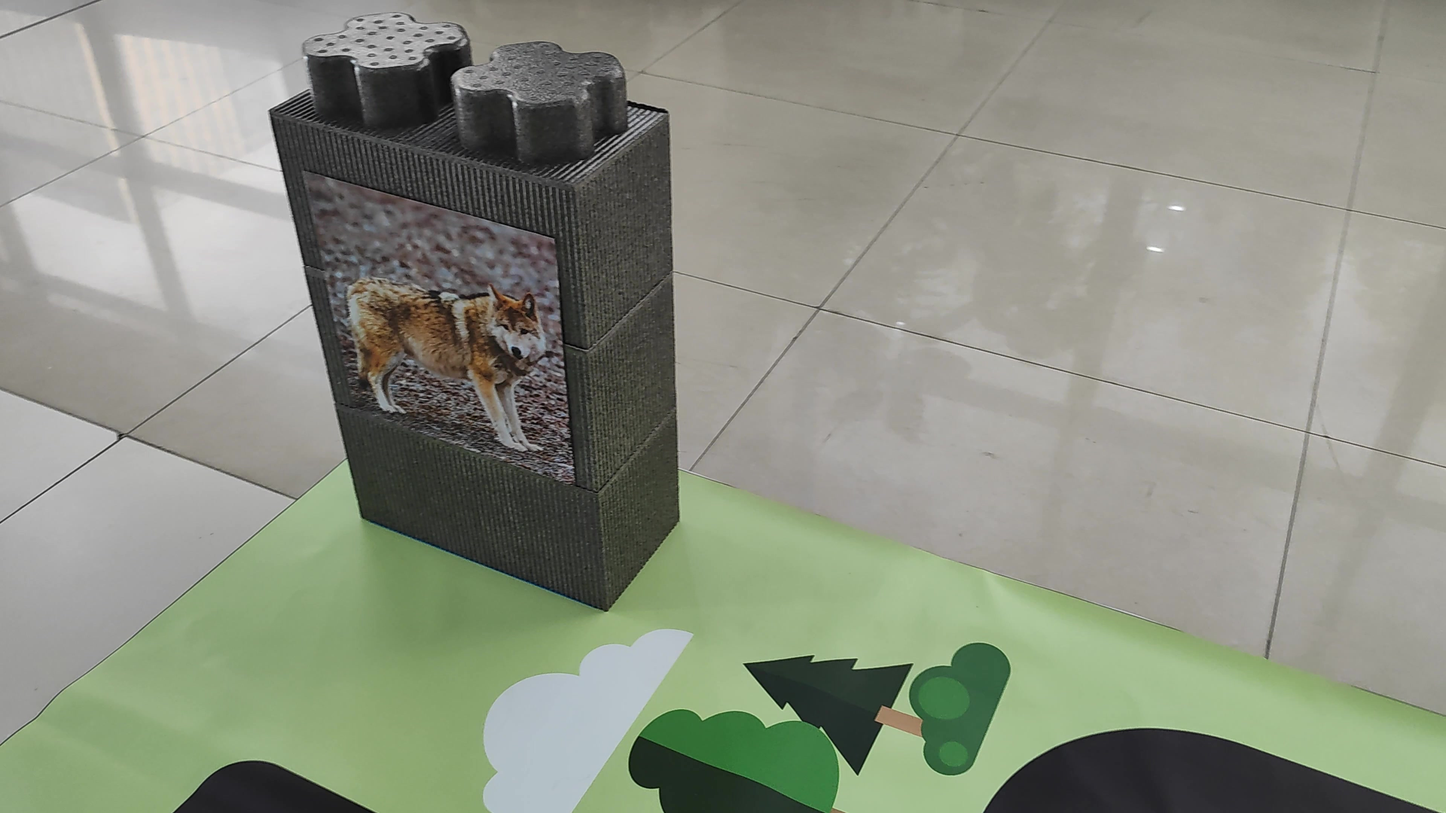wolf: (324, 237, 571, 480)
